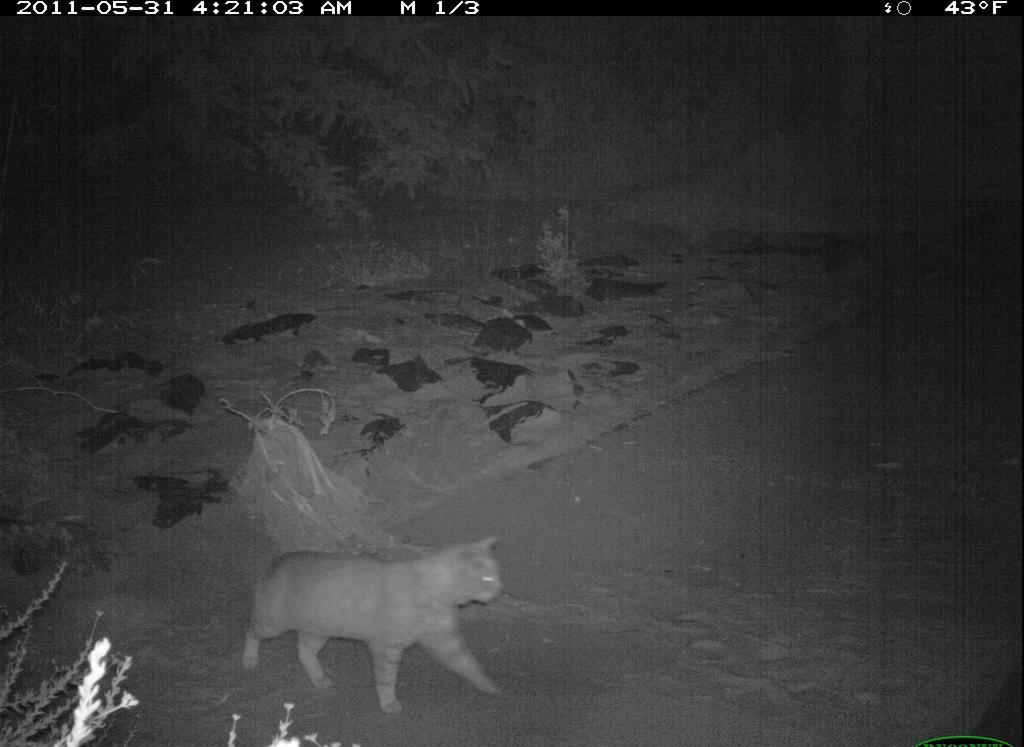cat: (232, 524, 528, 724)
